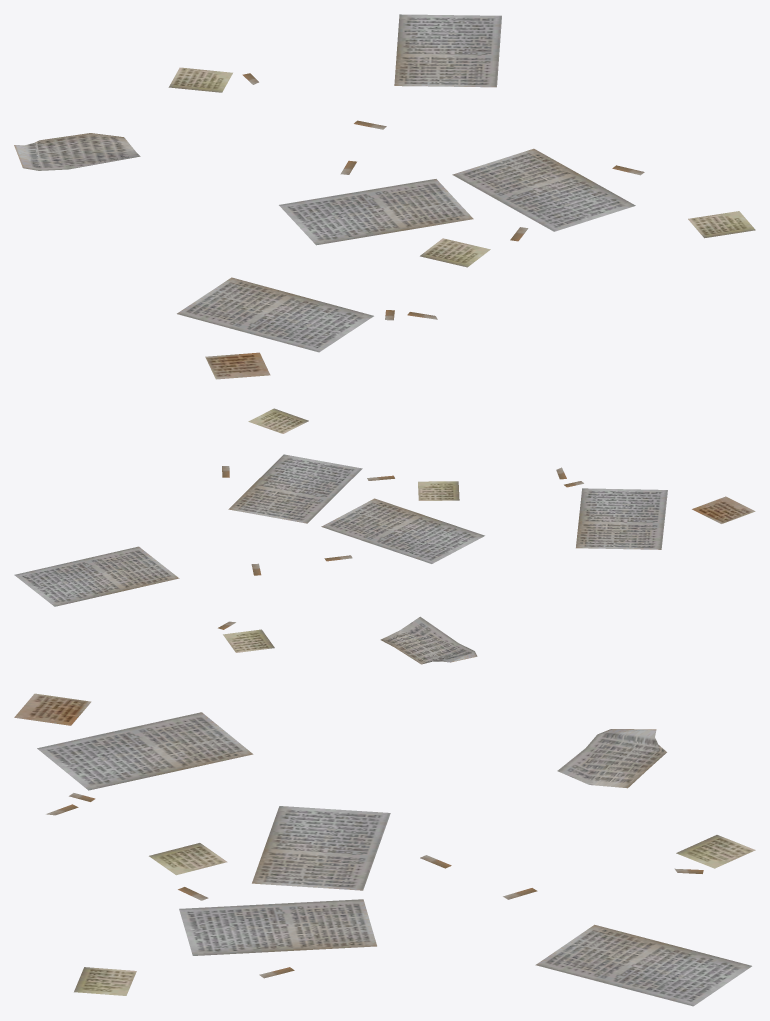
File: litter2.fbx
3 views of the same model, one above another, from view 1: azimuth 30°, elevation 25°; view 2: azimuth 150°, elevation 25°; view 3: azimuth 270°, elevation 25° (orthographic). The views are drawn at different scales.
Visible parts, largest first — view 1: mesh_0; view 2: mesh_0; view 3: mesh_0.
Boxes of the visible parts, x1,y1,x2,y2 form: mesh_0: (14,14,755,379); mesh_0: (14,408,755,664); mesh_0: (14,693,755,1006).
Bounding box in the file's own units: 137 × 1.98 × 137.
Materials: 1 (1 with a texture image).
